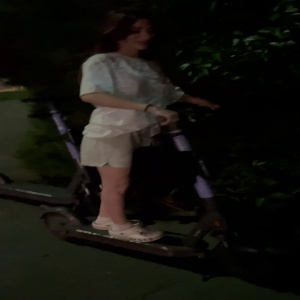human on a scooter: (38, 11, 267, 272)
